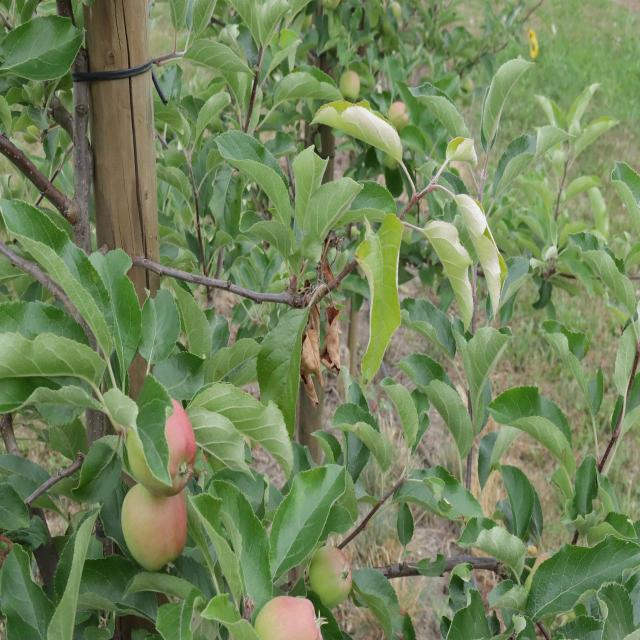-FireBlight-: (298, 256, 346, 407)
